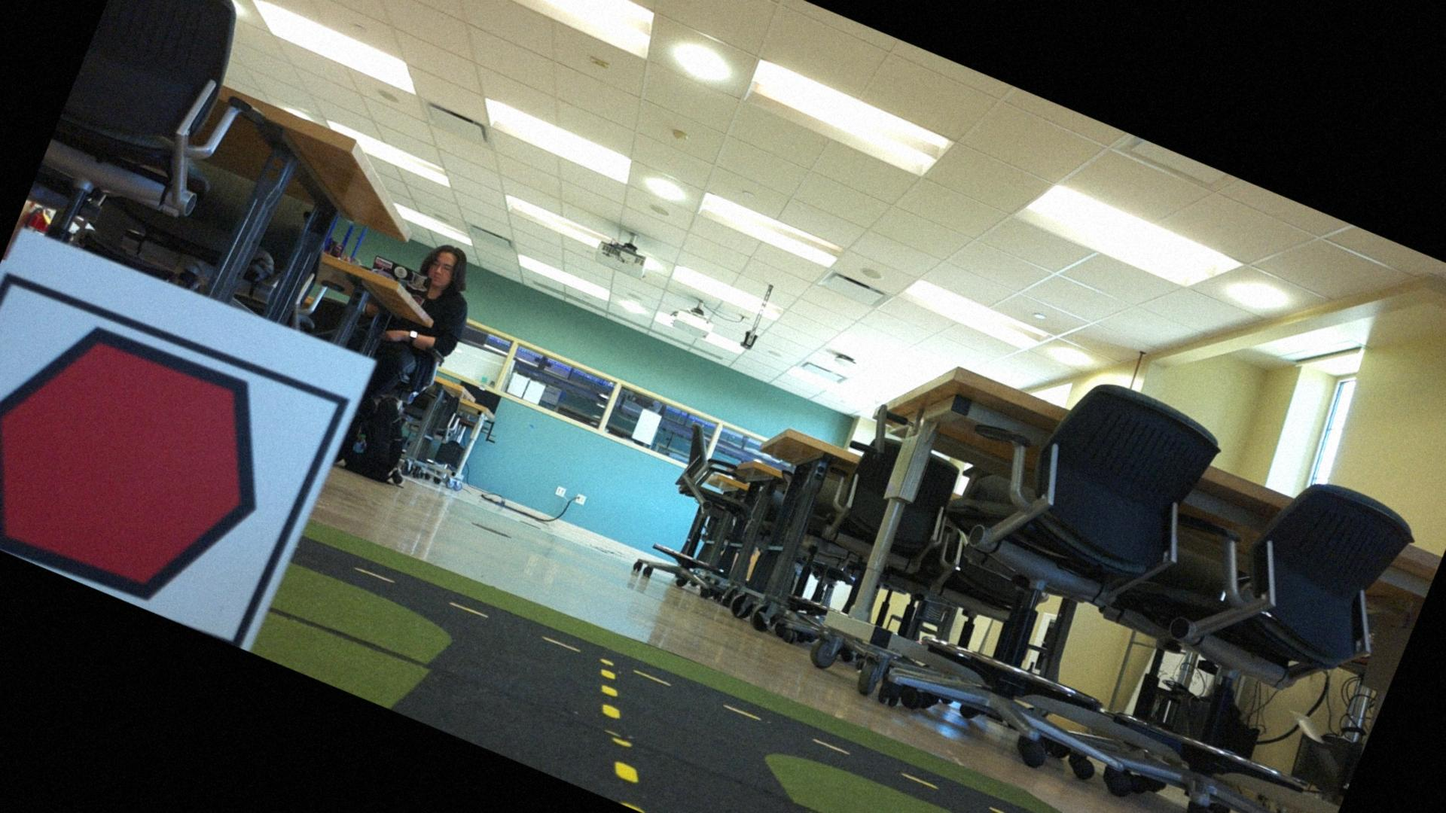stop: (0, 284, 316, 640)
yellowline: (568, 667, 672, 783)
